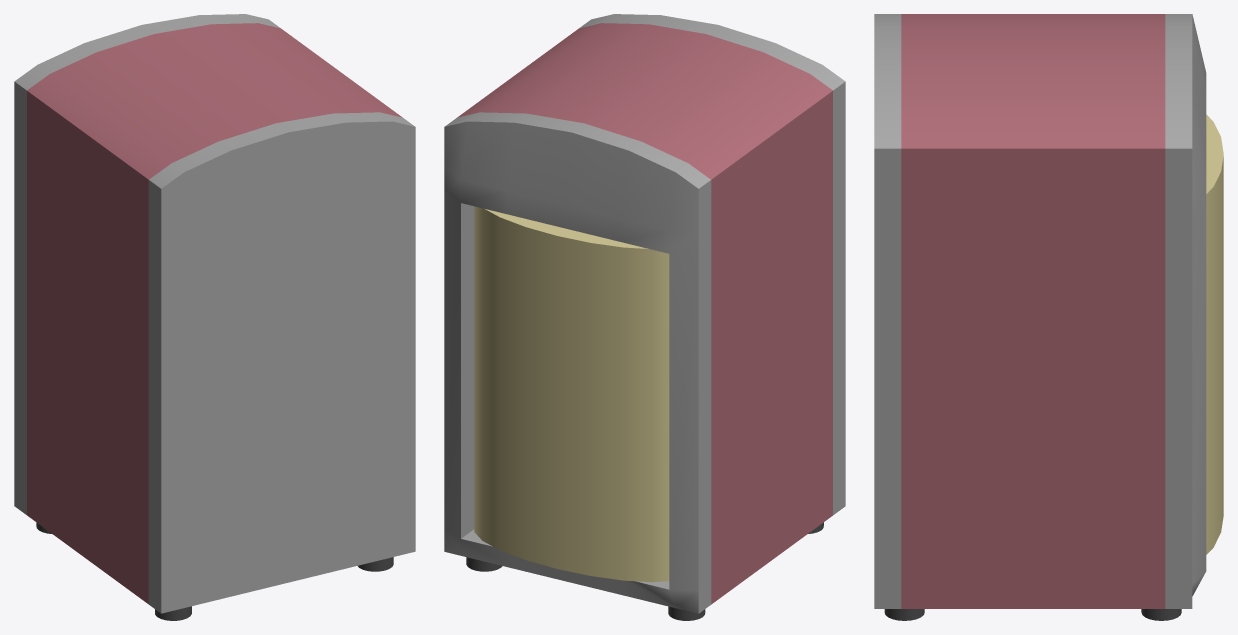
Rendered from Diner_Napkin.fbx.
3 views of the same model, side by side, from view 1: azimuth 30°, elevation 25°; view 2: azimuth 150°, elevation 25°; view 3: azimuth 270°, elevation 25° (orthographic). The views are drawn at different scales.
Parts seen in each view (by area): view 1: pCylinder94; view 2: pCylinder94; view 3: pCylinder94.
Part boxes in pixels (x1,y1,x2,y2): pCylinder94: [14, 14, 415, 620]; pCylinder94: [444, 14, 845, 620]; pCylinder94: [874, 14, 1223, 620].
Bounding box in the file's own units: 34.6 × 60.64 × 38.
